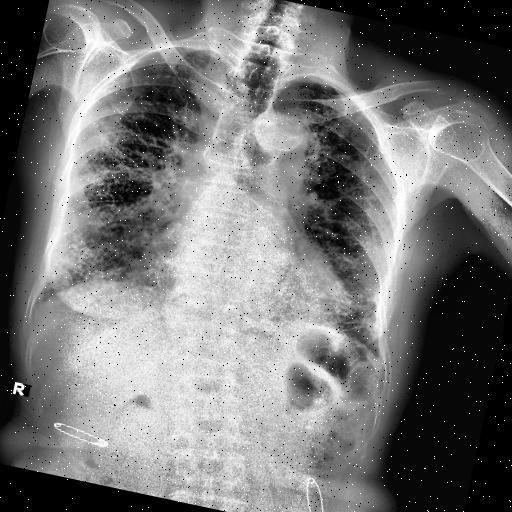0- Aortic enlargement: (239, 100, 317, 175), (252, 109, 316, 170), (250, 109, 310, 155)
3- Cardiomegaly: (128, 216, 365, 330), (128, 232, 358, 348), (130, 230, 358, 332)
5- ILD: (225, 79, 435, 360), (30, 48, 206, 338), (259, 114, 418, 348), (47, 90, 202, 312), (38, 98, 194, 318), (258, 130, 414, 345)
